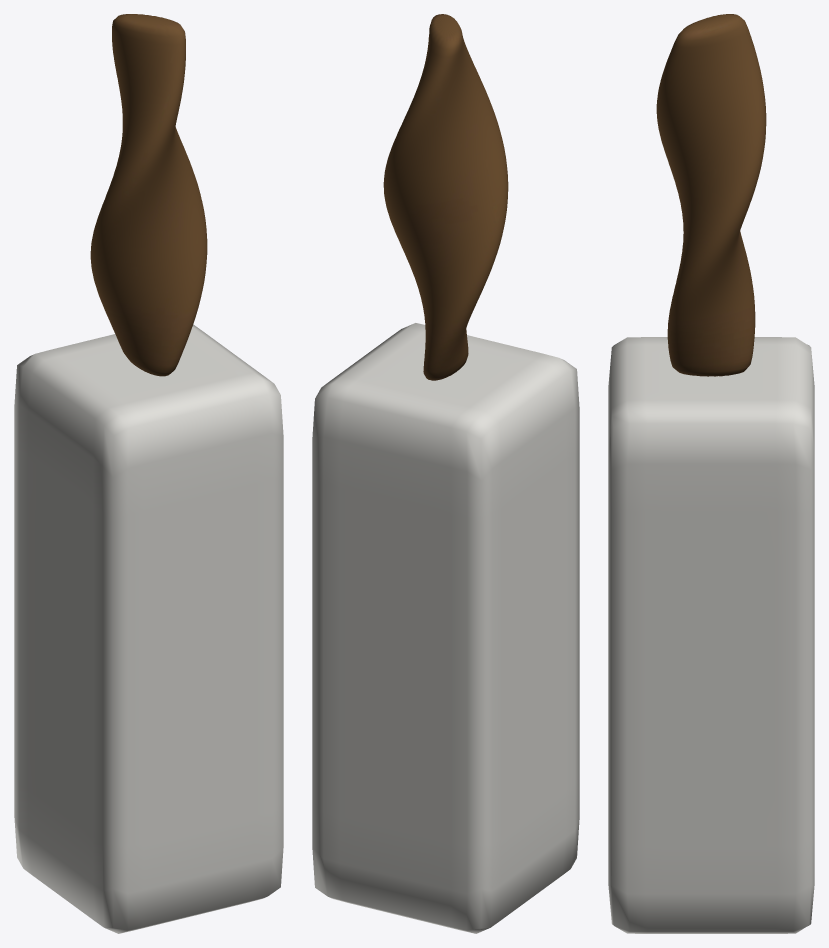
The model's file is bronze-twist.glb.
3 views of the same model, side by side, from view 1: azimuth 30°, elevation 25°; view 2: azimuth 150°, elevation 25°; view 3: azimuth 270°, elevation 25° (orthographic).
Visible parts, largest first — view 1: plinth_white, bronze; view 2: plinth_white, bronze; view 3: plinth_white, bronze.
Boxes of the visible parts, x1,y1,x2,y2 form: plinth_white: [14, 324, 283, 933]; bronze: [90, 14, 207, 376]; plinth_white: [312, 323, 579, 933]; bronze: [383, 14, 508, 380]; plinth_white: [608, 337, 814, 933]; bronze: [656, 14, 766, 376].
Size of the model in its own units: 0.32 by 1.5 by 0.32.
Materials: 2 (1 with a texture image).
